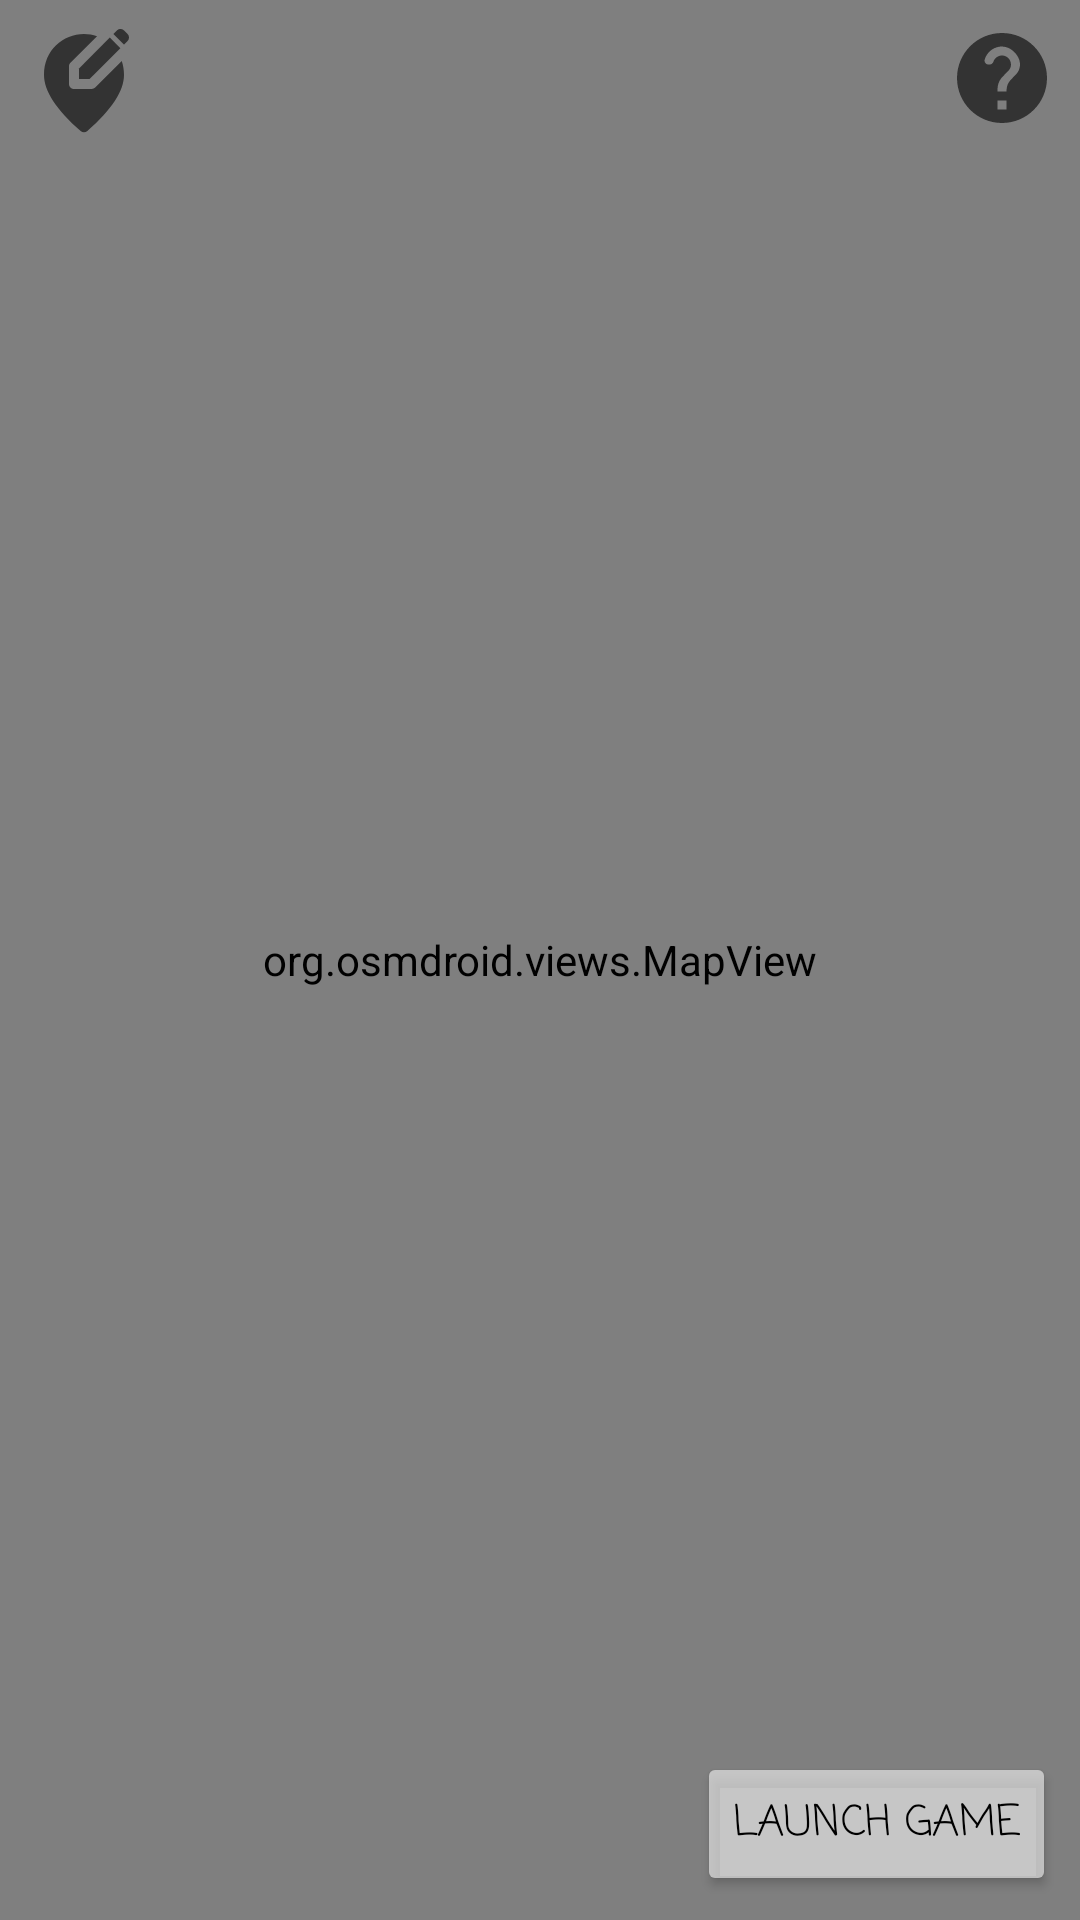

Where to tap for icons on this 1080w x 1920h app screen, as point (x, y):
help: point (1002, 78)
